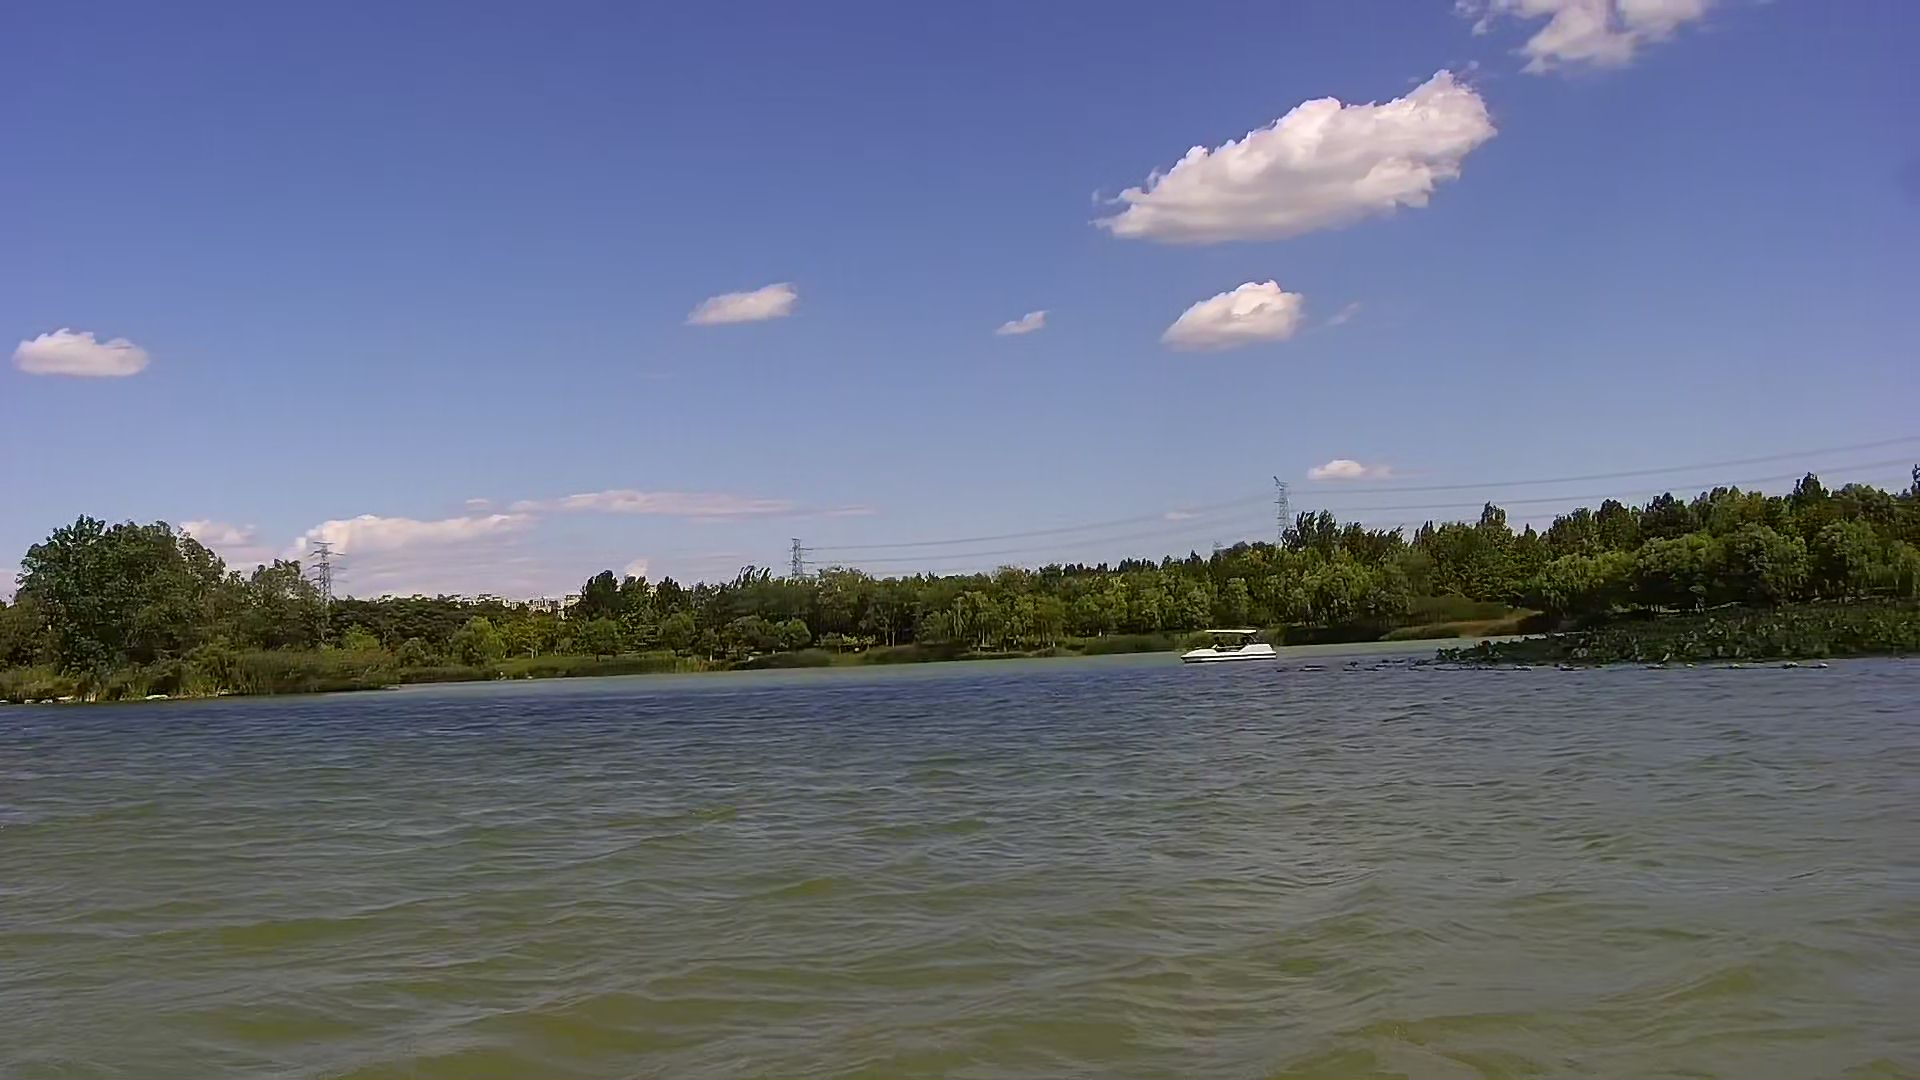boat: (1172, 624, 1278, 667)
